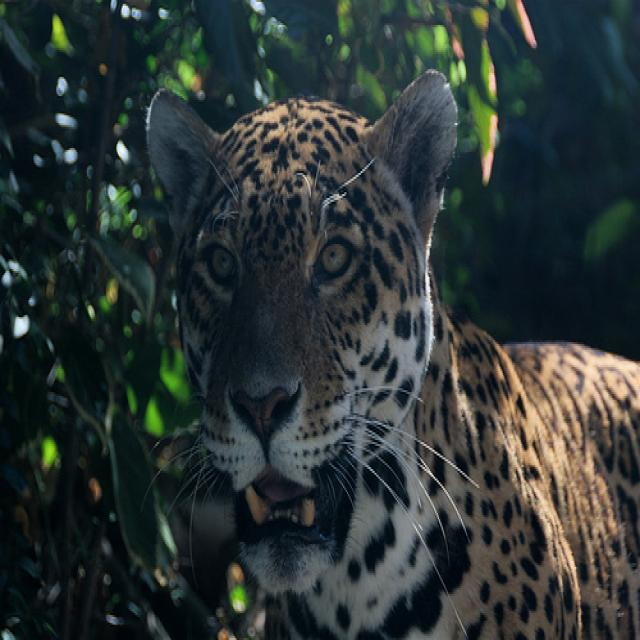Leopard: (137, 62, 637, 636)
